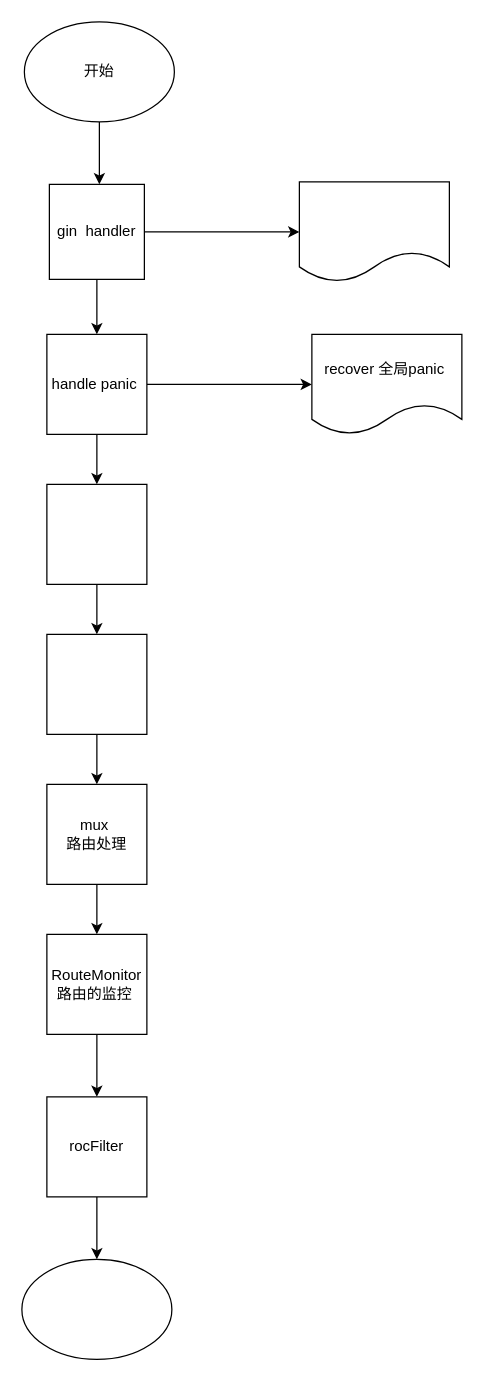
Image size: 484x1381. Some labels were removed from this diagram. Each missing label, with the centre of its shape:
tracer 跟踪器: point 96,533
日志处理: point 96,683
结束: point 96,1308
首先所有的请求通过 gin 框架的路由处理器进行转发: point 373,231
